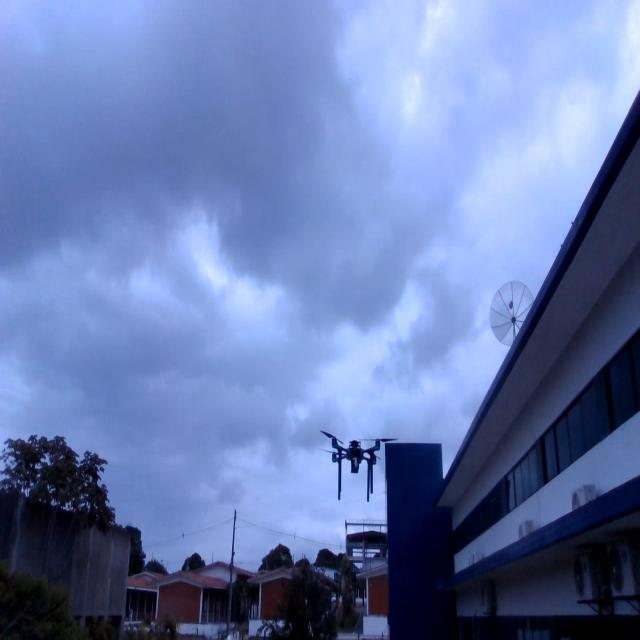-uav-: (313, 421, 399, 514)
